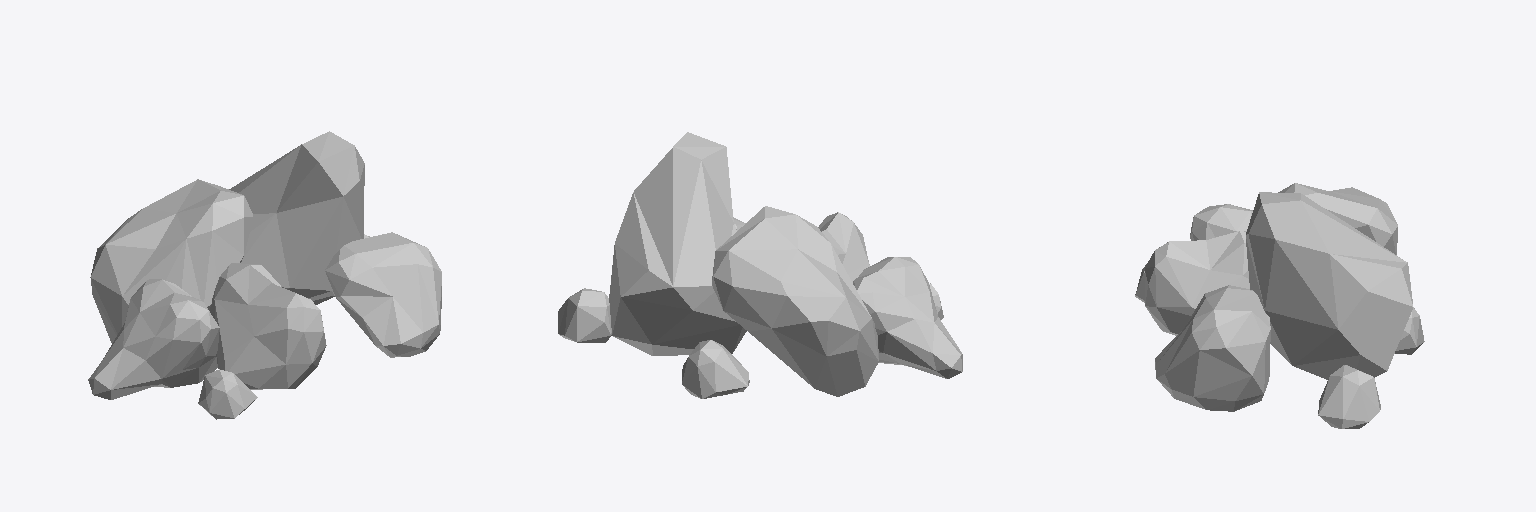
The model's file is Stone_Chunks_Small.obj.
3 views of the same model, side by side, from view 1: azimuth 30°, elevation 25°; view 2: azimuth 150°, elevation 25°; view 3: azimuth 270°, elevation 25° (orthographic).
Visible parts, largest first — view 1: Stone_Chunks_Small; view 2: Stone_Chunks_Small; view 3: Stone_Chunks_Small.
Part boxes in pixels (x1,y1,x2,y2): Stone_Chunks_Small: (88,131,441,419); Stone_Chunks_Small: (558,132,962,398); Stone_Chunks_Small: (1135,183,1424,428).
Bounding box in the file's own units: 1.12 × 0.5792 × 0.7861.